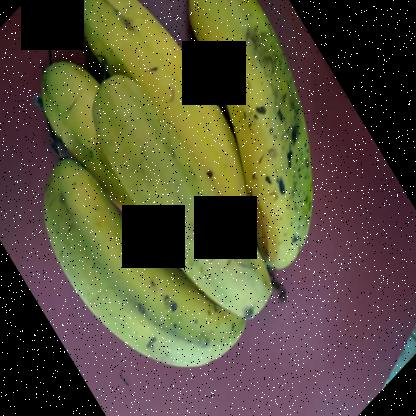ripe: (95, 63, 270, 328), (24, 172, 217, 394), (192, 0, 326, 279), (70, 0, 226, 180)
